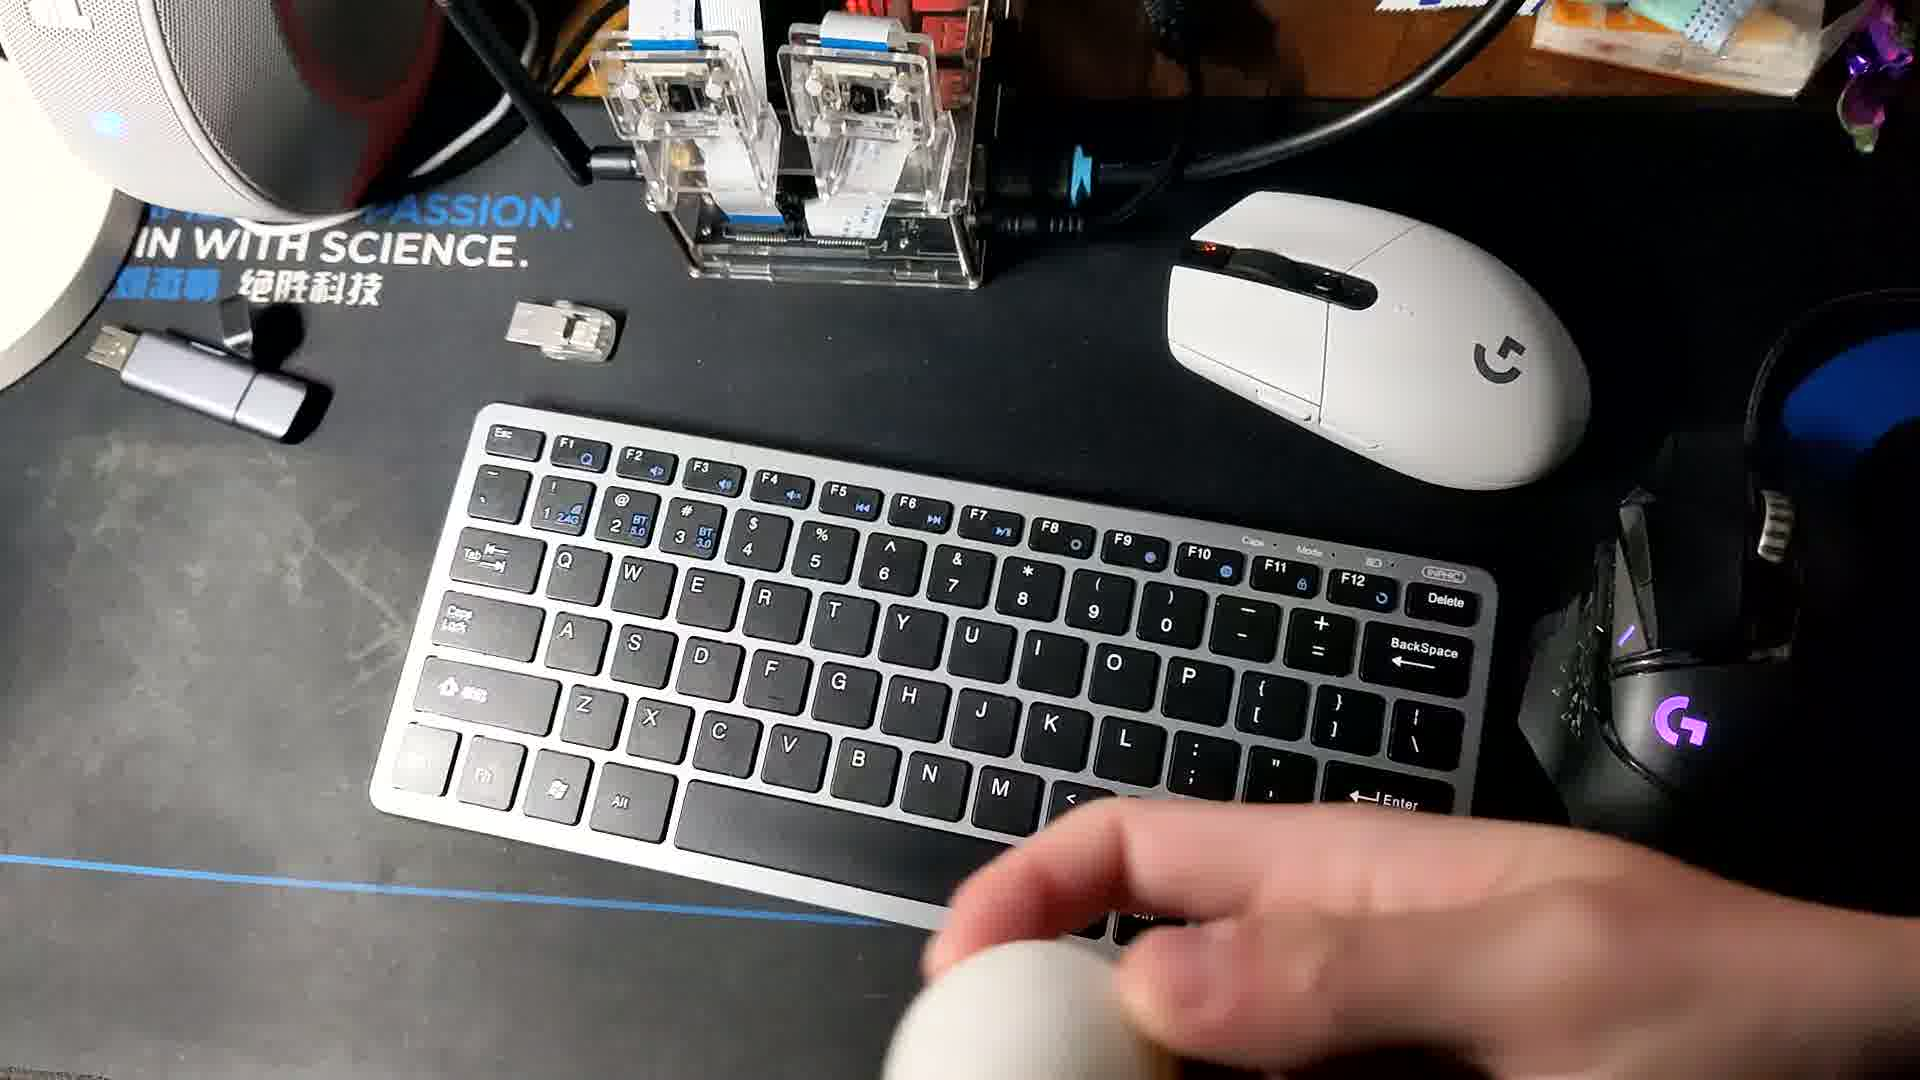Ball: (861, 938, 1185, 1080)
